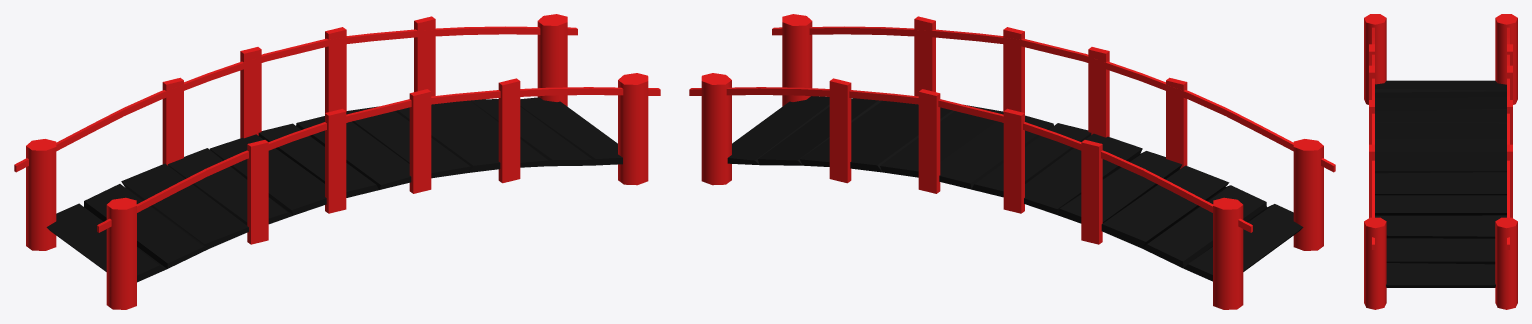
Rendered from Pont (2).FBX.
The picture shows the model from 3 angles, left to right: view 1: azimuth 30°, elevation 25°; view 2: azimuth 150°, elevation 25°; view 3: azimuth 270°, elevation 25°; orthographic projection. The views are drawn at different scales.
Visible parts, largest first — view 1: Plane002; view 2: Plane002; view 3: Plane002.
Boxes of the visible parts, x1=… form: Plane002: x1=14, y1=14, x2=660, y2=309; Plane002: x1=689, y1=14, x2=1335, y2=309; Plane002: x1=1364, y1=14, x2=1517, y2=309.
Size of the model in its own units: 304 by 73.37 by 88.4.
